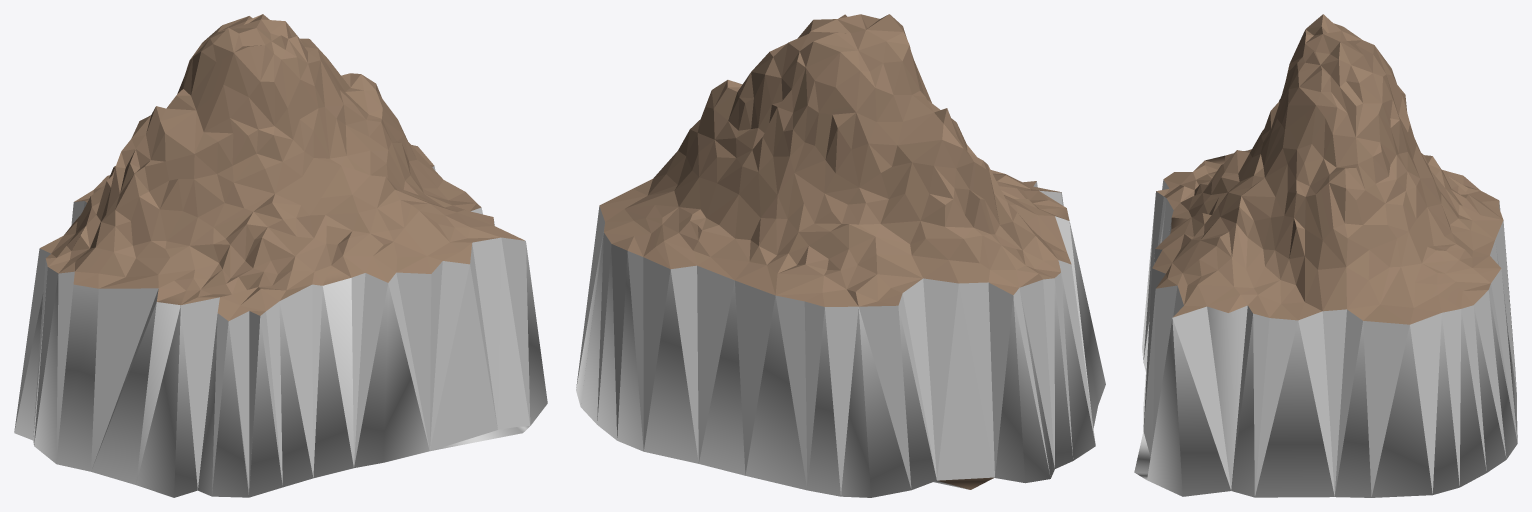
File: Mountain_03.fbx
3 renders of one model, left to right at view 1: azimuth 30°, elevation 25°; view 2: azimuth 150°, elevation 25°; view 3: azimuth 270°, elevation 25°, orthographic. The views are drawn at different scales.
Visible parts, largest first — view 1: Mountain_03; view 2: Mountain_03; view 3: Mountain_03.
Part boxes in pixels (x1=…): Mountain_03: x1=14, y1=14, x2=547, y2=497; Mountain_03: x1=576, y1=14, x2=1105, y2=497; Mountain_03: x1=1134, y1=14, x2=1517, y2=497.
Bounding box in the file's own units: 15480 × 13111 × 12259.
